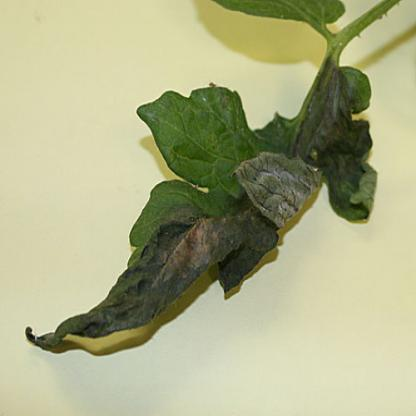Potato leaf late blight: (24, 56, 383, 366)
